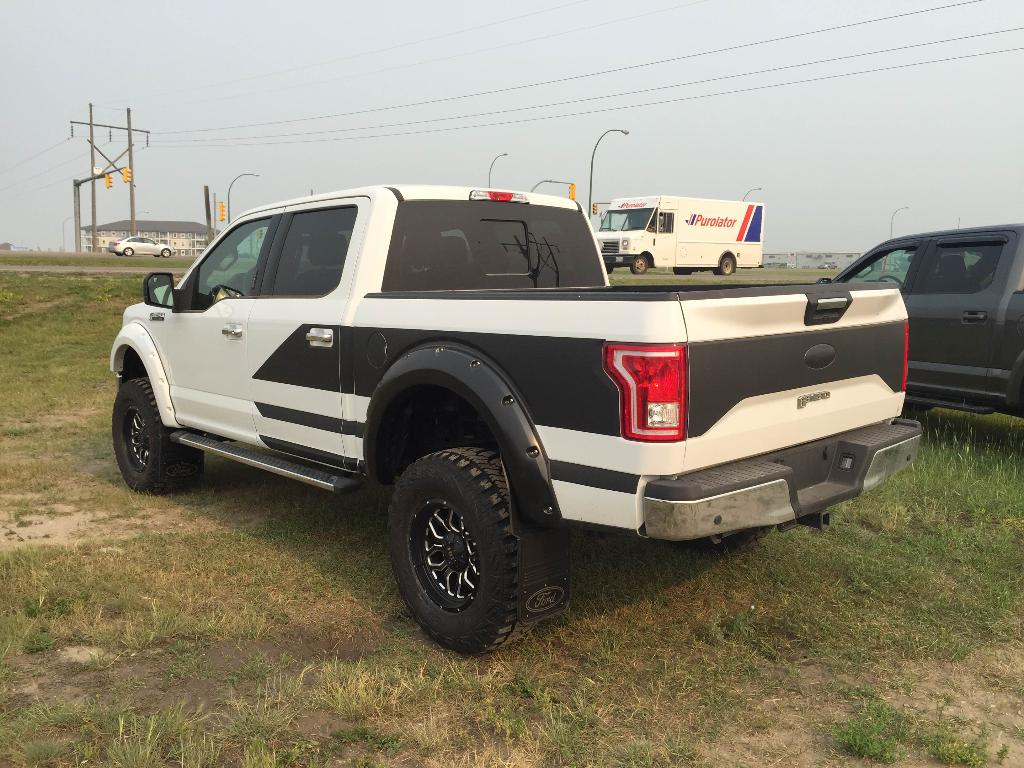Car: (814, 225, 1023, 428), (106, 232, 169, 259)
